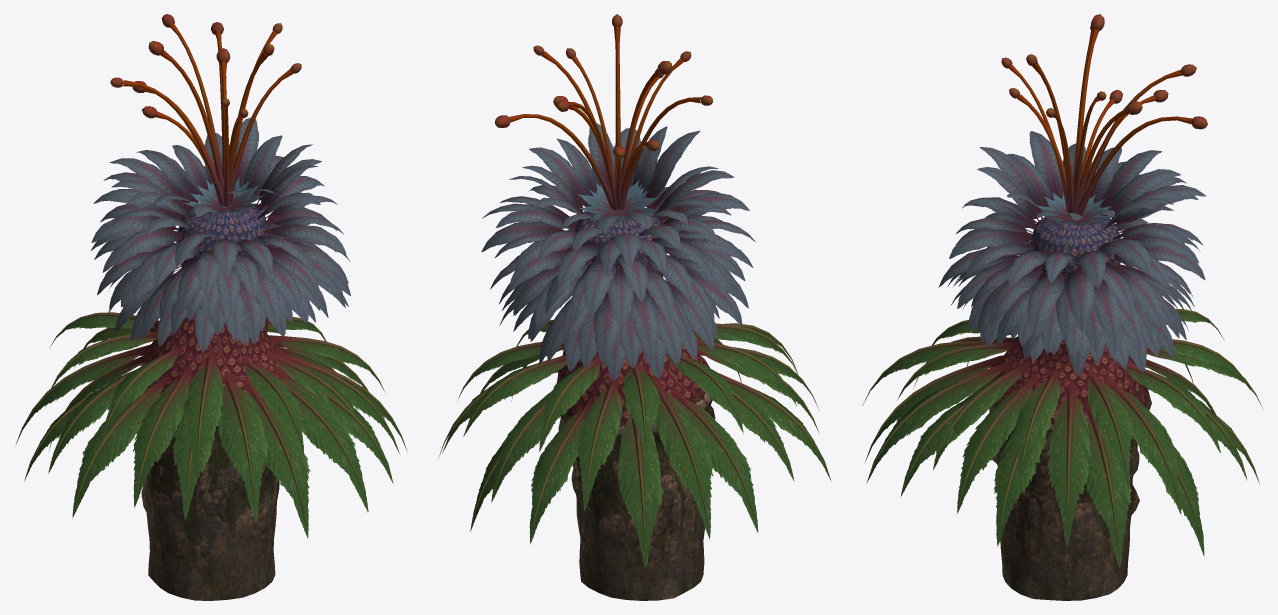
Rendered from Plant - Alien Plant 16-vCiF1cwJ.glb.
3 renders of one model, left to right at view 1: azimuth 30°, elevation 25°; view 2: azimuth 150°, elevation 25°; view 3: azimuth 270°, elevation 25°, orthographic.
Visible parts, largest first — view 1: Plant16(Clone); view 2: Plant16(Clone); view 3: Plant16(Clone).
Boxes of the visible parts, x1,y1,x2,y2 form: Plant16(Clone): (16, 14, 407, 600); Plant16(Clone): (438, 14, 831, 600); Plant16(Clone): (862, 14, 1262, 600).
Bounding box in the file's own units: 3.19 × 4.78 × 3.22.
2 materials, 2 textured.
